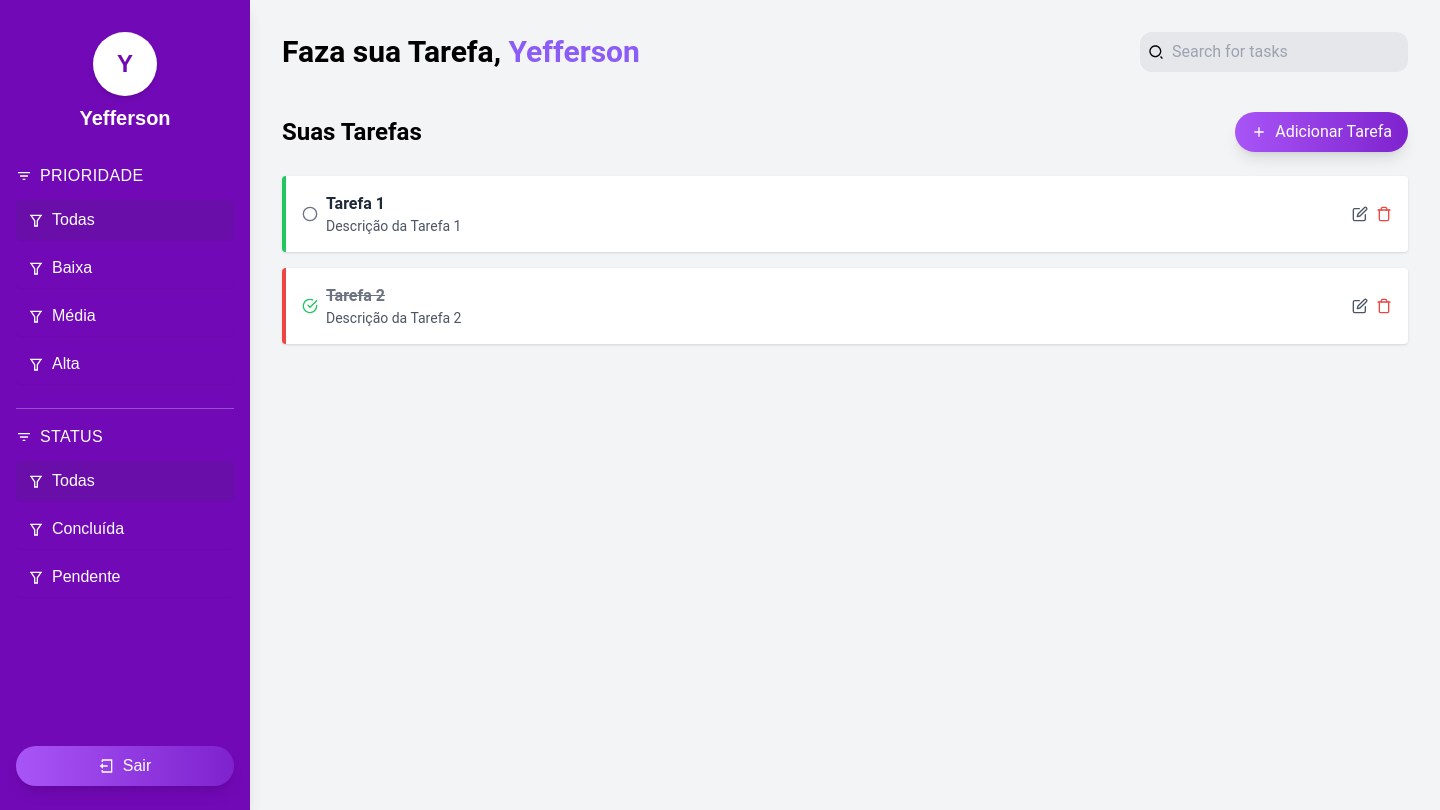
Test: Tasks Component › opens the modal for editing when a task item is clicked
Click the button named "edit" in the row of "Descrição da Tarefa 1". click: (1360, 214)
box: [1352,206,1368,222]
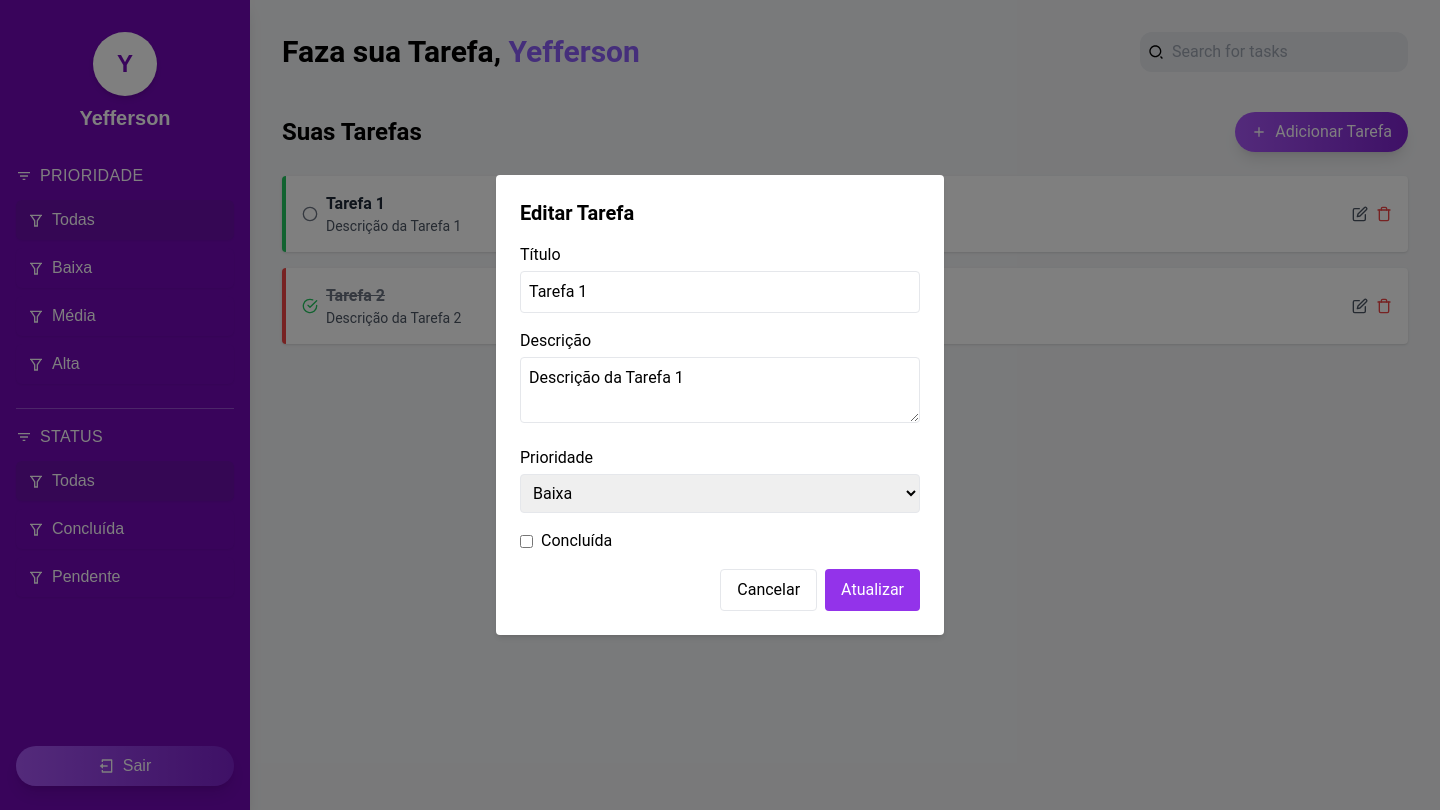
Now the heading "Editar Tarefa" is shown, box [520,201,634,225]
